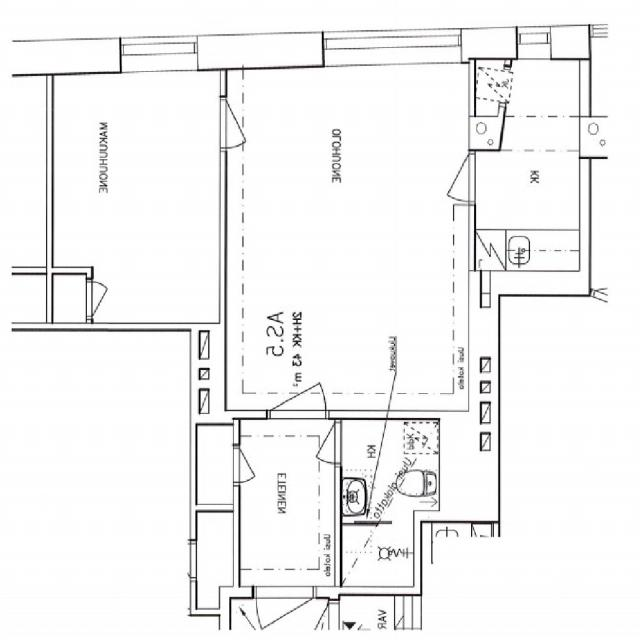door: (271, 350, 326, 419), (257, 586, 313, 640), (220, 99, 271, 147), (426, 154, 476, 202), (298, 421, 342, 464), (234, 447, 272, 482), (87, 282, 124, 315)
